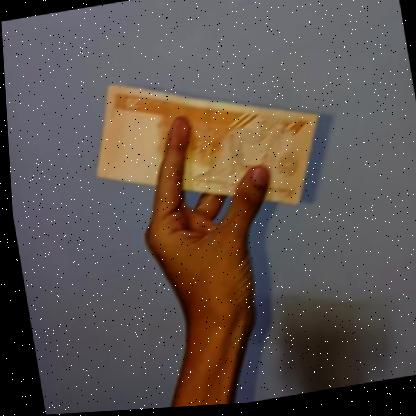twenty-back-vef: (78, 54, 330, 237)
